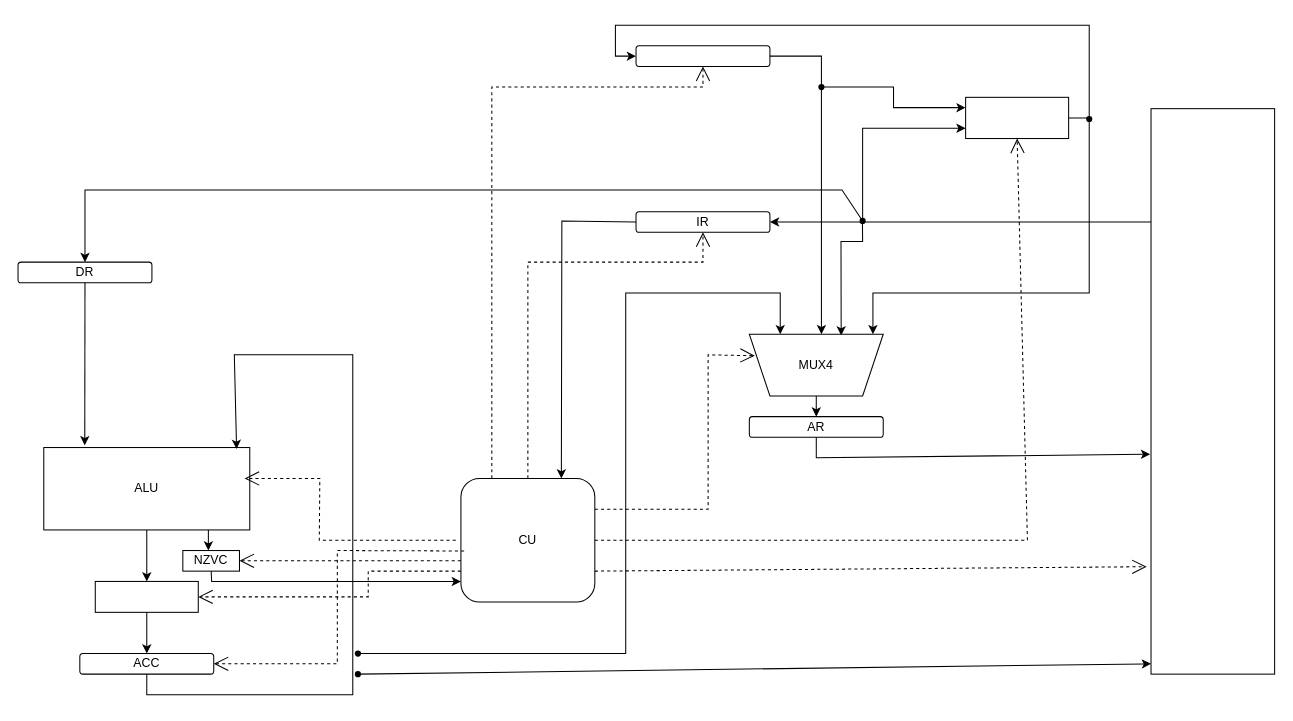
Image size: 1293x721. Some labels were removed from this diagram. Each missing label, with the centre of its shape:
PC: (x=702, y=55)
RAM: (x=1212, y=391)
Shifter: (x=146, y=596)
Sum_Addr: (x=1017, y=117)
